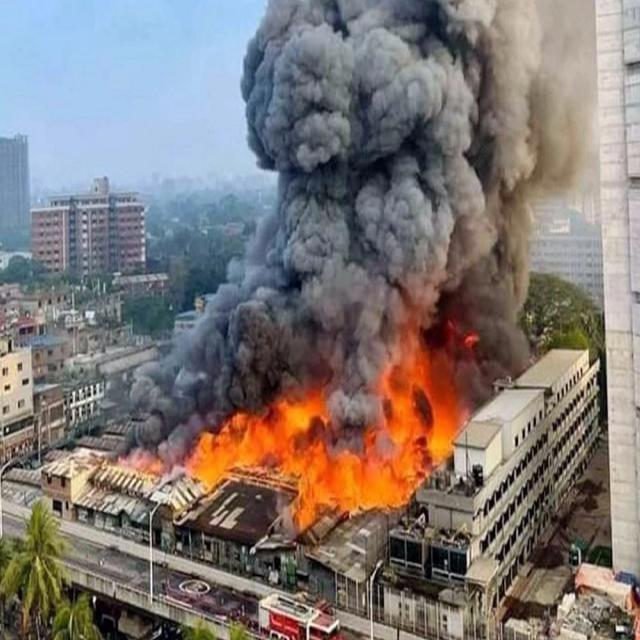Fire: (209, 390, 532, 476), (190, 430, 500, 510)
Smoke: (253, 0, 598, 228), (114, 242, 584, 389)
